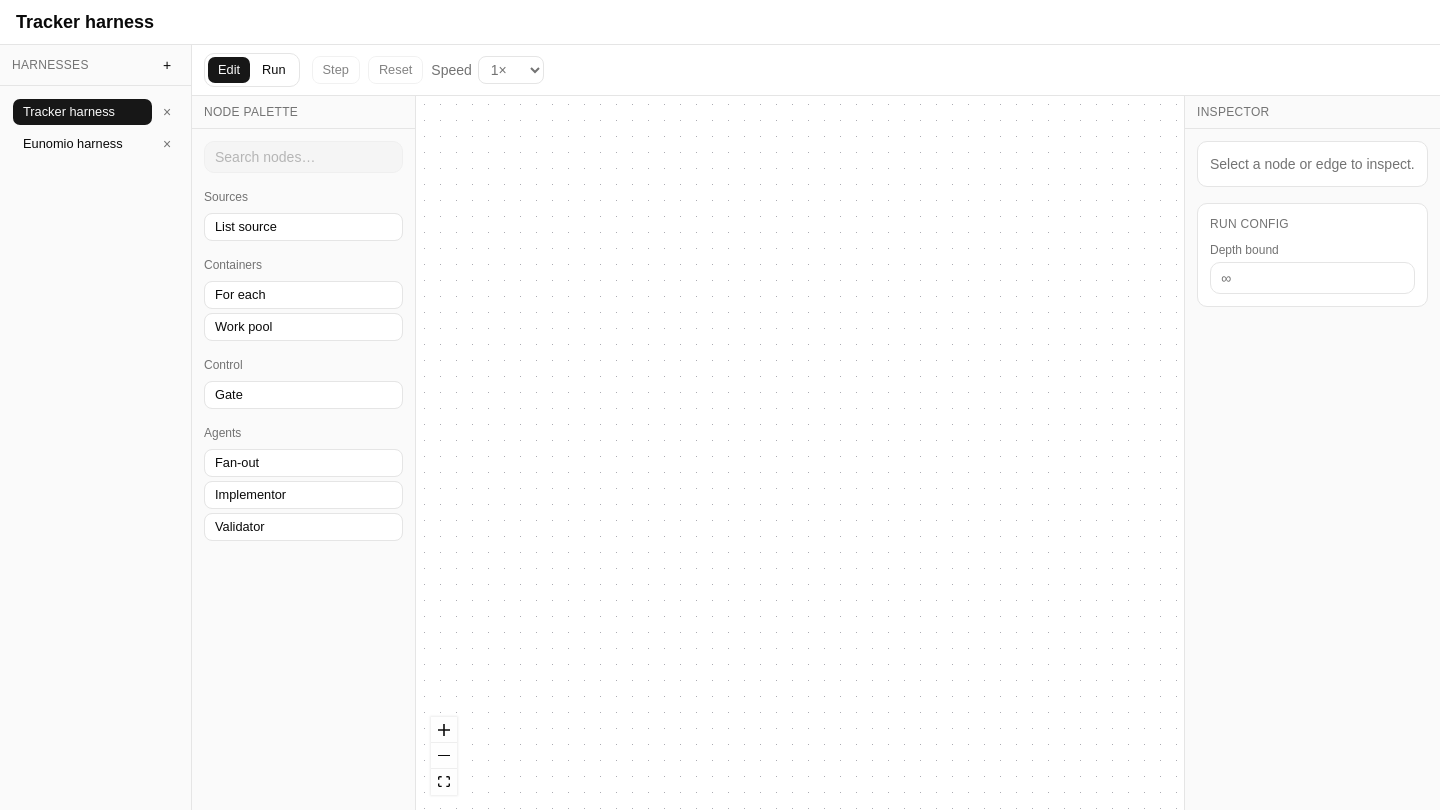
Test: harness sidebar › adds a blank harness and selects it
Click the button with test id "harness-add" at (167, 65), box x1=155 y1=53 x2=179 y2=77
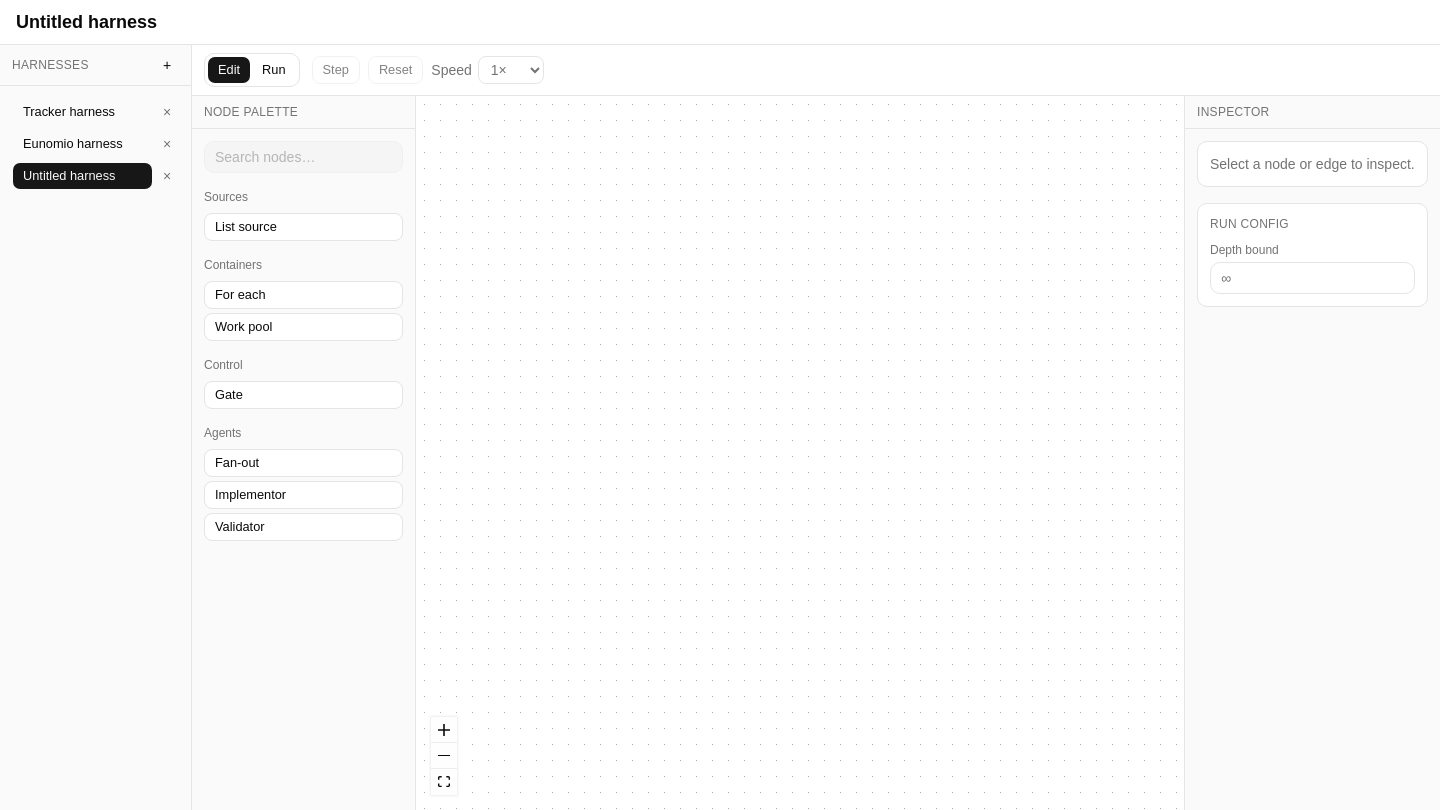
Check: the button with test id "^harness-item-" reads "Untitled harness", box x1=12 y1=162 x2=153 y2=190
